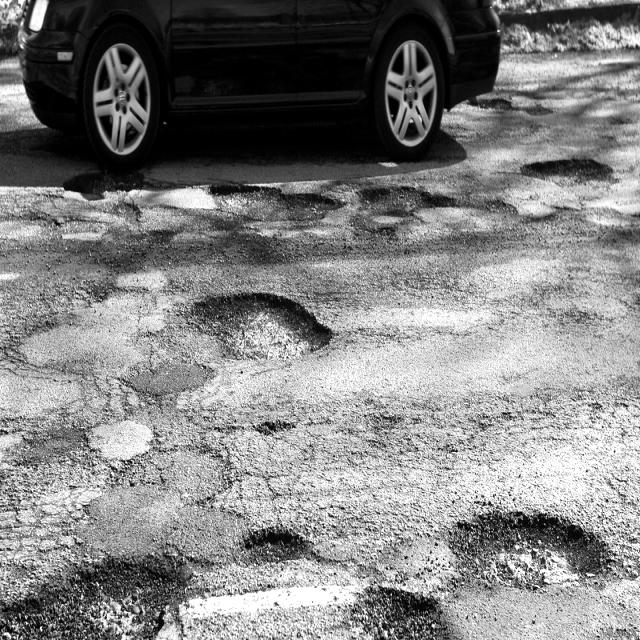pathole: (172, 154, 618, 243), (142, 266, 383, 408), (434, 466, 625, 640), (0, 530, 188, 640), (217, 509, 334, 614), (314, 552, 442, 640)
